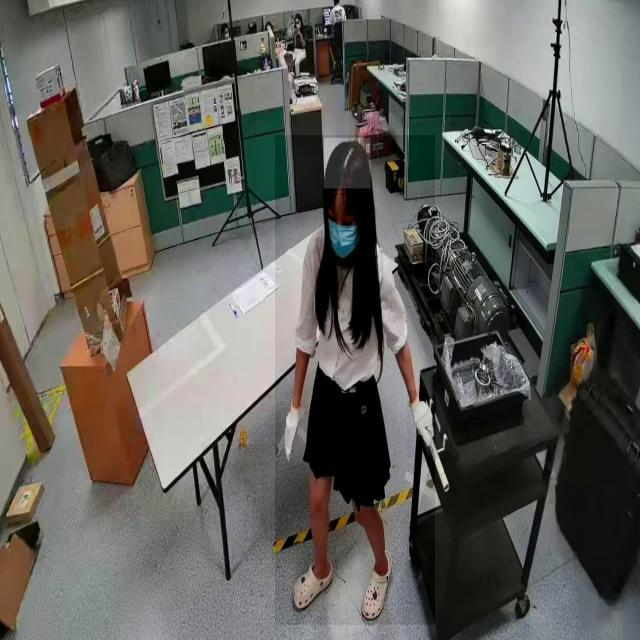face_mask: (325, 193, 363, 266)
hand_glove: (407, 390, 438, 459), (280, 395, 304, 465)
head_nohelmet: (324, 138, 371, 189), (294, 12, 302, 18)
person: (275, 135, 435, 626)
